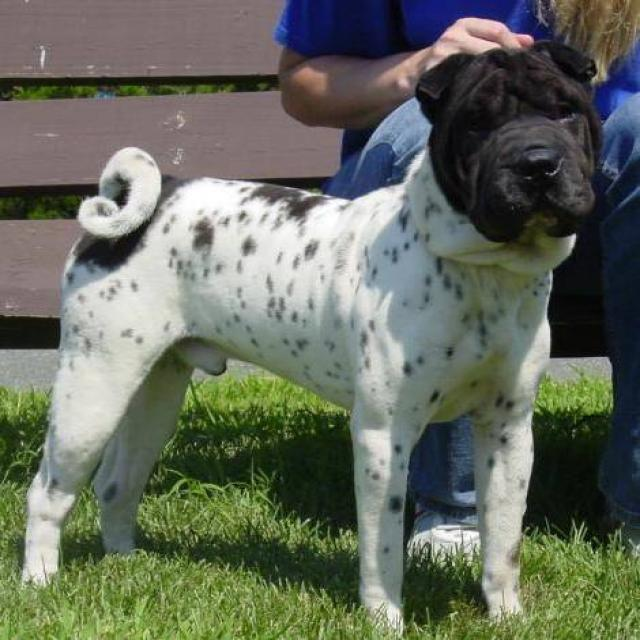dog: (19, 37, 606, 636)
